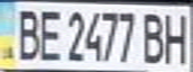2: (60, 6, 84, 62)
4: (81, 7, 103, 63)
7: (118, 8, 142, 62), (100, 7, 121, 62)
B: (9, 3, 42, 62), (139, 9, 169, 64)
E: (33, 5, 63, 62)
H: (160, 9, 193, 65)
